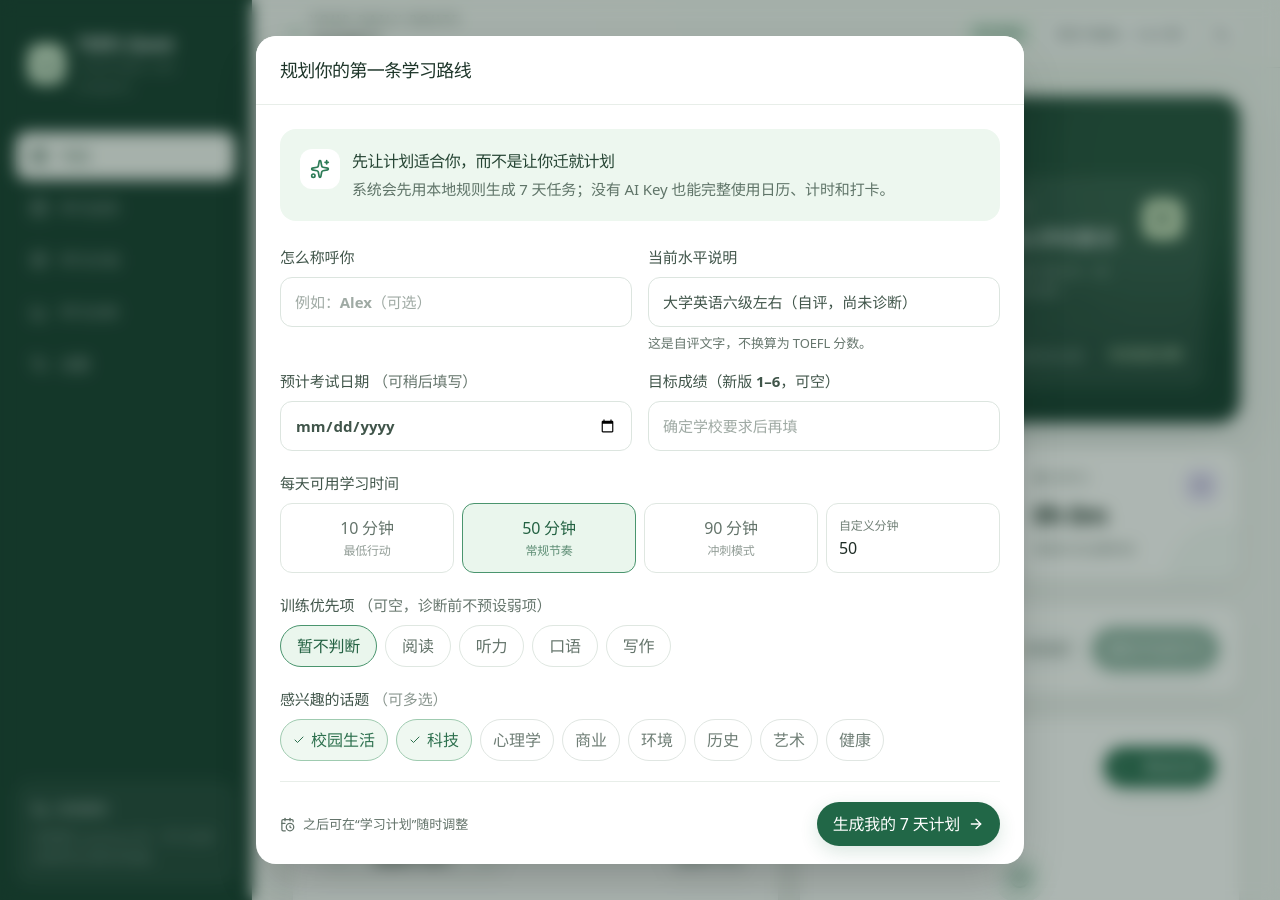
Scenario: TOEFL Quest MVP flow › onboards, generates a plan, and supports explicit task completion
Click the button "生成我的 7 天计划" at (908, 824), box [817,802,1000,846]
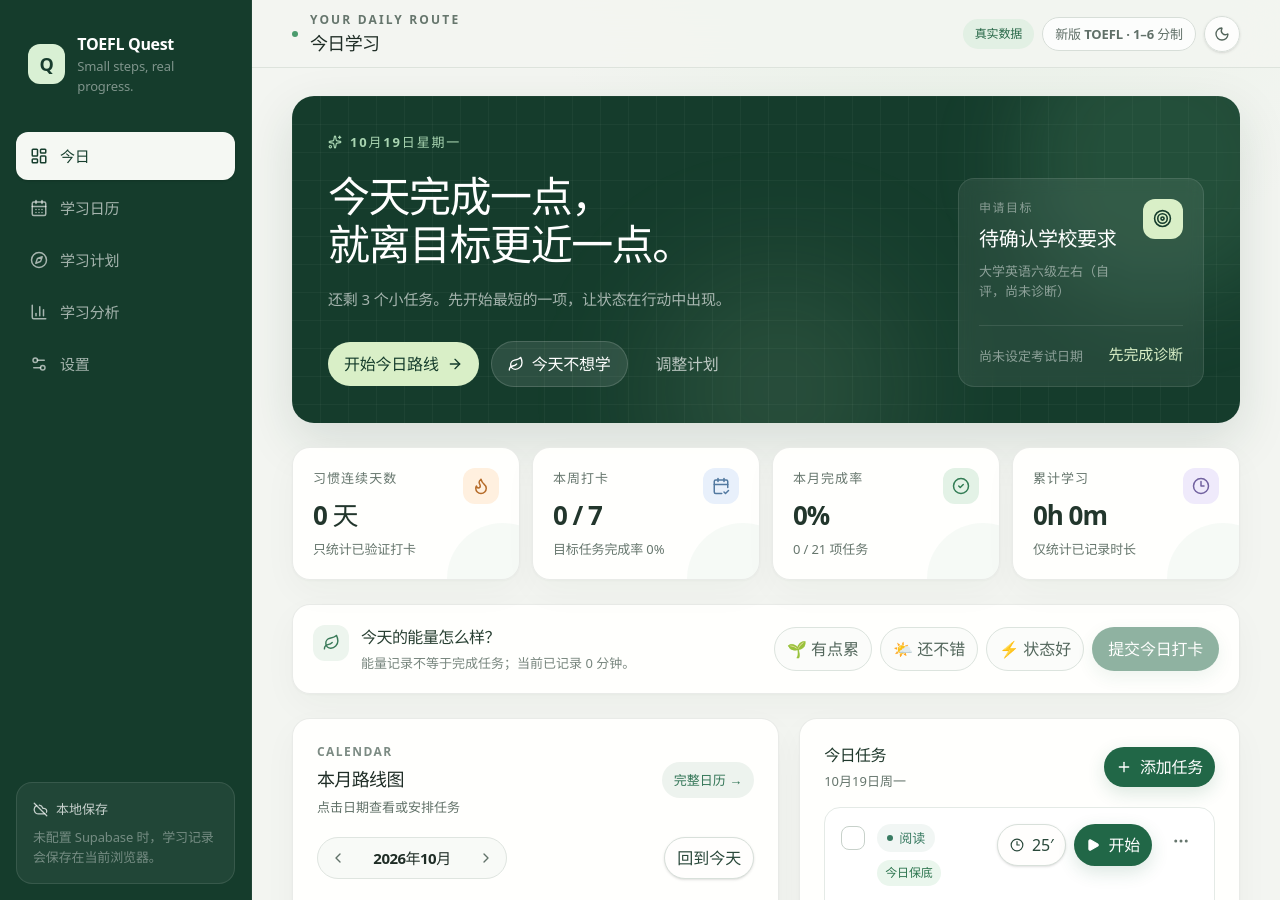
Expected: the heading "今日任务" is shown, [824,744,886,766]
Expected: the heading "规划你的第一条学习路线" is gone
Click the button named "确认完成" at (853, 838), box [841,826,865,850]
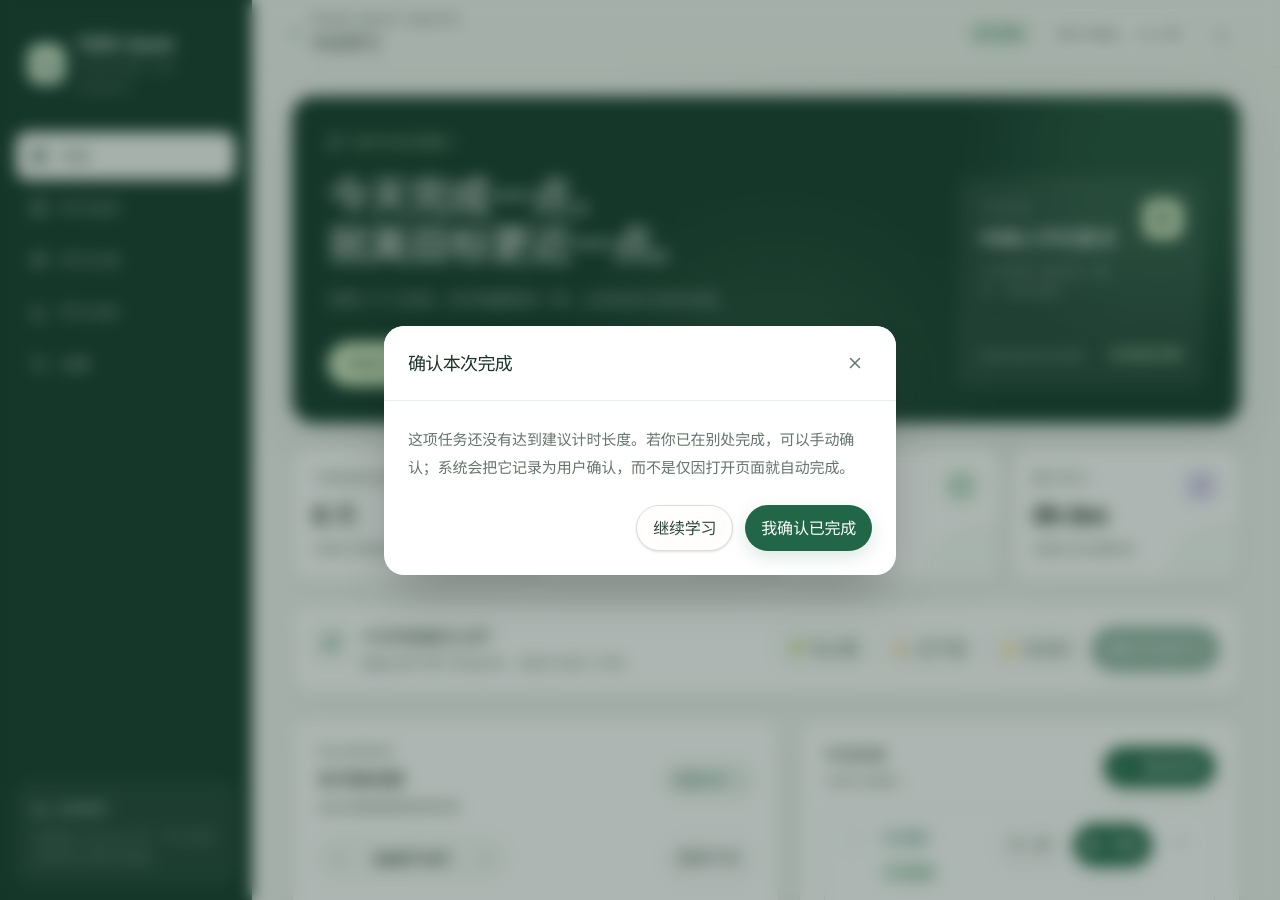
Expected: the dialog "确认本次完成" is shown
Click the button "我确认已完成" at (809, 528), box [745,504,872,550]
(page scrolled)
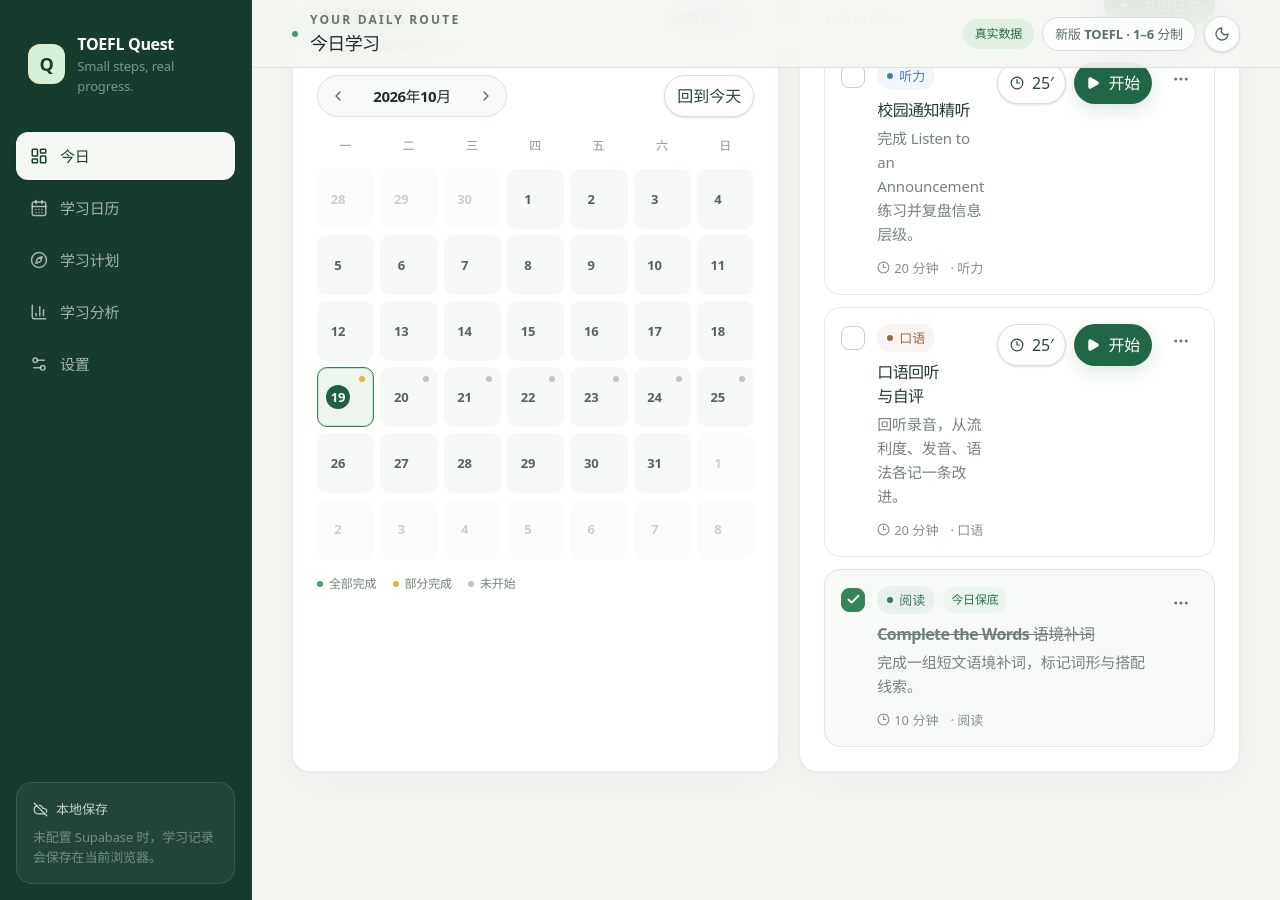
Expected: the heading "确认本次完成" is gone
Expected: the button named "标为未完成" is shown, [841,588,865,612]
